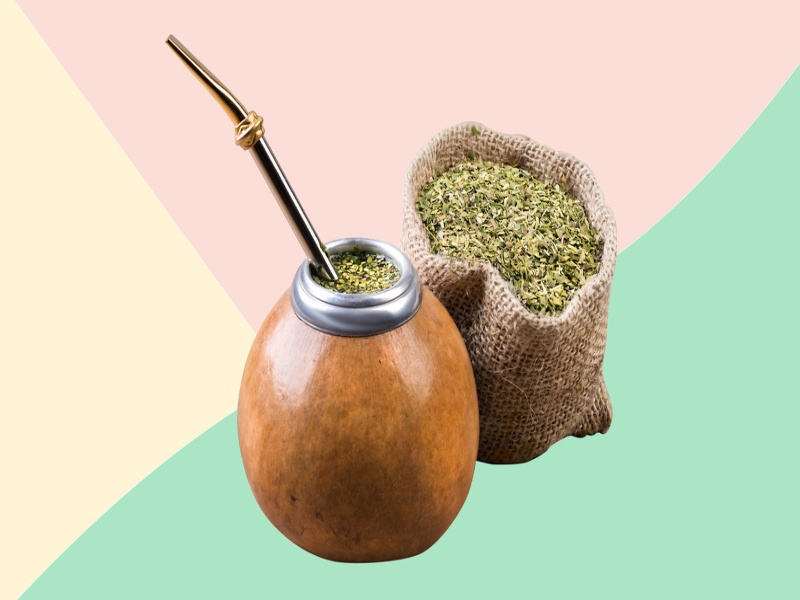guampa: (141, 31, 477, 571)
